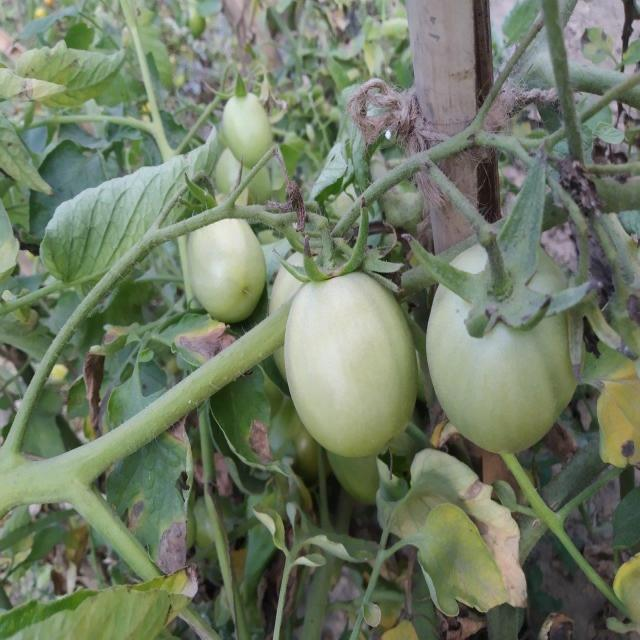Unripe: (427, 228, 588, 454), (285, 255, 421, 453)
